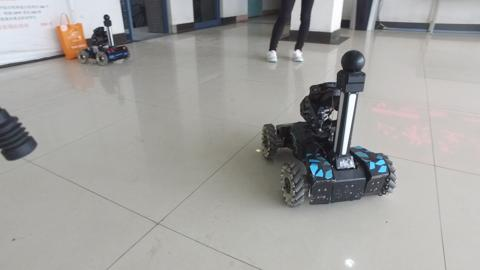bag: (53, 11, 88, 62)
chariot: (260, 49, 397, 208), (76, 12, 131, 65)
